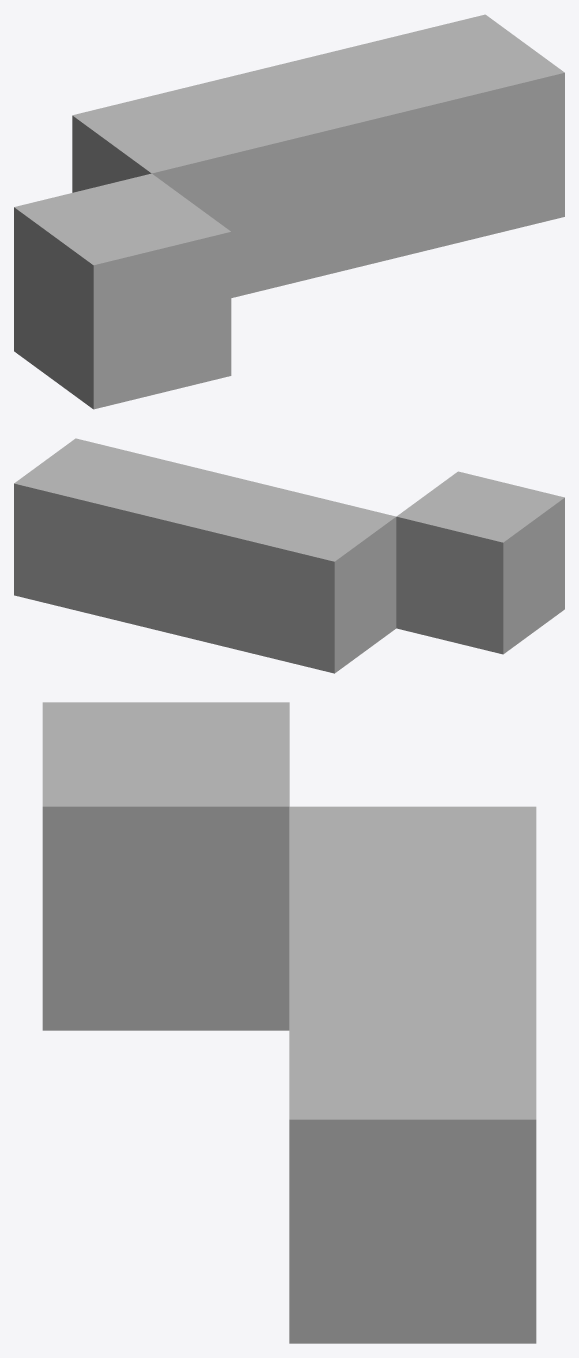
Rendered from bones-4.gltf.
3 views of the same model, one above another, from view 1: azimuth 30°, elevation 25°; view 2: azimuth 150°, elevation 25°; view 3: azimuth 270°, elevation 25° (orthographic). The views are drawn at different scales.
Visible parts, largest first — view 1: bones-4_model; view 2: bones-4_model; view 3: bones-4_model.
Boxes of the visible parts, x1,y1,x2,y2 form: bones-4_model: (14,14,564,409); bones-4_model: (14,438,564,673); bones-4_model: (42,702,536,1343).
Bounding box in the file's own units: 0.4 × 0.1 × 0.2.
Materials: 1 (1 with a texture image).
